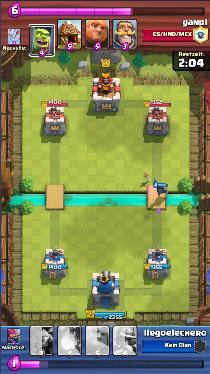ally_mini_pekka: (153, 180, 169, 195)
